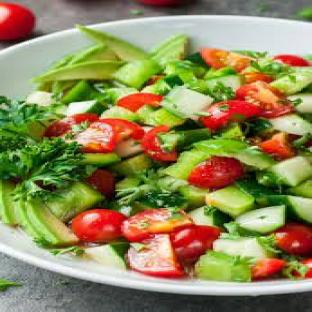Cucumber: (76, 25, 149, 61), (195, 139, 275, 169), (26, 200, 79, 245), (46, 182, 104, 221), (33, 61, 124, 82), (161, 87, 212, 120), (195, 251, 250, 281), (258, 157, 311, 186), (206, 186, 254, 217), (235, 205, 284, 233), (213, 237, 274, 259), (163, 151, 209, 180), (114, 61, 160, 88), (269, 196, 311, 224), (85, 243, 129, 269), (159, 129, 211, 150), (152, 35, 187, 66), (235, 178, 275, 205), (136, 190, 187, 210), (271, 71, 311, 95), (111, 154, 153, 175), (188, 206, 230, 227), (269, 114, 311, 135), (0, 181, 19, 225), (62, 81, 99, 103), (147, 108, 185, 127), (179, 186, 209, 209), (206, 74, 243, 91), (67, 100, 104, 115), (105, 87, 138, 103), (101, 107, 137, 121), (82, 154, 120, 167), (157, 176, 189, 191), (249, 117, 274, 136), (116, 139, 142, 157), (109, 202, 142, 216), (289, 94, 311, 113), (219, 124, 245, 140), (204, 67, 238, 79), (26, 92, 55, 106), (136, 106, 156, 125), (289, 181, 311, 198), (186, 53, 209, 68), (116, 176, 140, 190), (141, 84, 162, 94)
Tomato: (127, 234, 183, 277), (123, 208, 192, 242), (237, 82, 293, 117), (201, 100, 261, 130), (170, 226, 221, 261), (188, 157, 243, 188), (73, 210, 126, 242), (74, 121, 117, 153), (0, 3, 36, 40), (44, 113, 99, 137), (141, 126, 176, 161), (201, 48, 254, 71), (275, 224, 311, 256), (257, 132, 295, 159), (100, 118, 144, 141), (118, 94, 162, 112), (87, 170, 115, 197), (251, 259, 286, 278), (275, 55, 310, 66), (244, 72, 274, 83), (294, 259, 311, 278), (147, 76, 165, 85)
